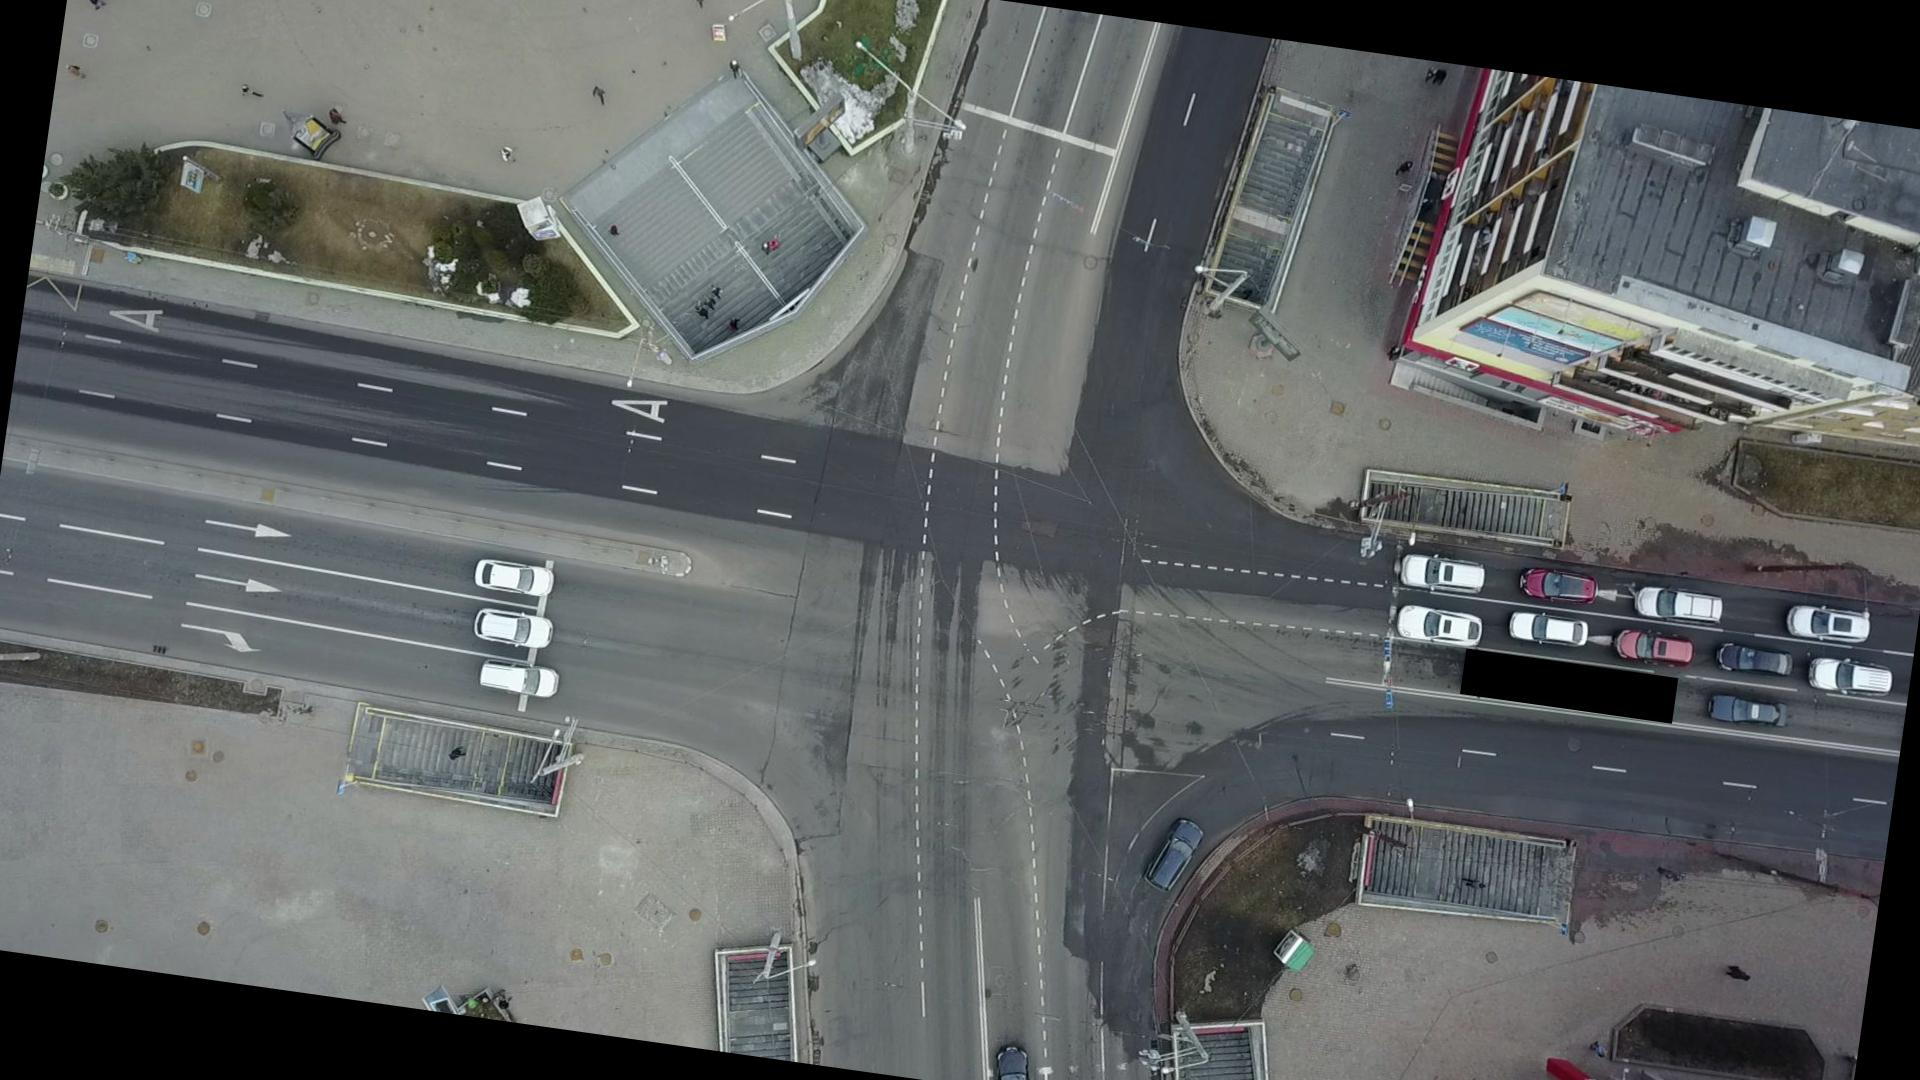vehicle: (1394, 547, 1490, 600), (1630, 579, 1727, 629), (1804, 651, 1895, 702), (1394, 601, 1485, 650), (1783, 600, 1873, 649), (469, 604, 556, 653), (1515, 562, 1601, 611), (1611, 624, 1696, 671), (471, 555, 558, 600), (476, 655, 563, 700), (1705, 690, 1791, 732), (1506, 608, 1592, 650), (1712, 638, 1795, 680)
